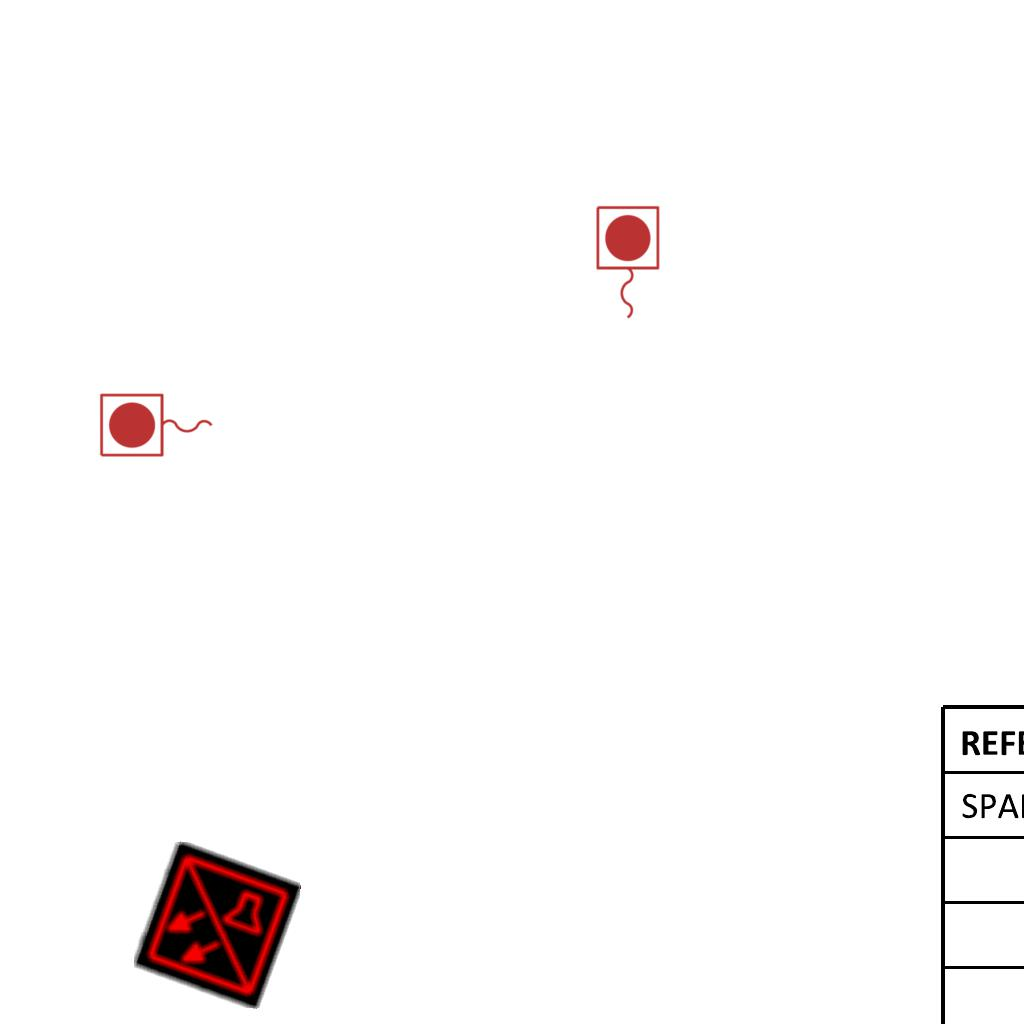OKW_Multisensormelder_(Kombination_optischer_Rauch-Kahlenmonoxid_Waerme-Melder): (132, 840, 302, 1010)
Zugtaster: (96, 390, 218, 462), (591, 202, 663, 324)
